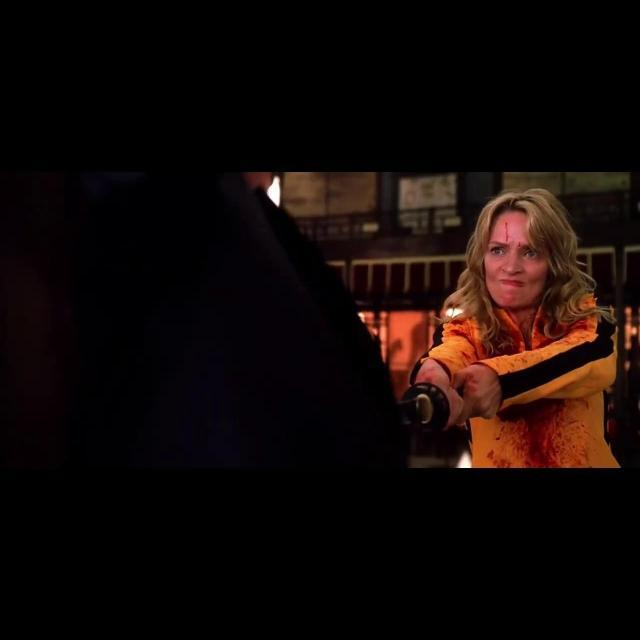blood: (428, 306, 616, 400), (470, 392, 620, 468), (516, 240, 524, 255), (505, 222, 510, 240)
